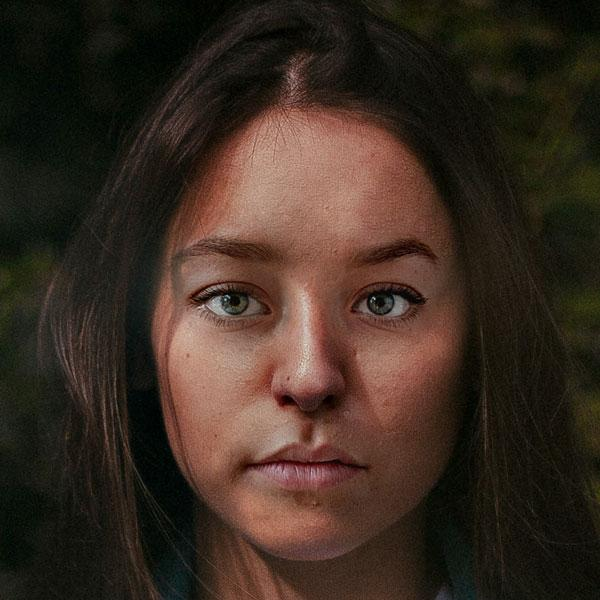Eyes: (182, 266, 279, 341), (336, 269, 432, 336)
